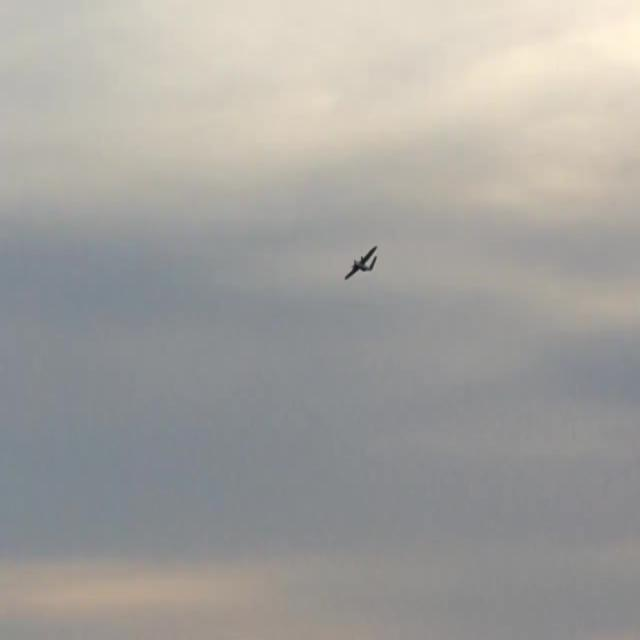iha: (343, 236, 378, 276)
